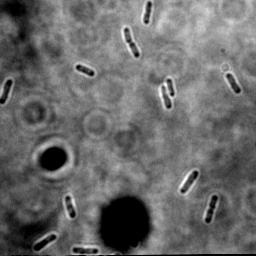Dividing: (121, 25, 142, 59), (203, 193, 220, 225)
Rod: (179, 169, 200, 195), (32, 232, 58, 253), (0, 77, 14, 105), (225, 72, 242, 94), (160, 83, 173, 111), (63, 193, 77, 219), (74, 62, 97, 77), (71, 245, 99, 256), (142, 1, 153, 26), (165, 76, 177, 97)
